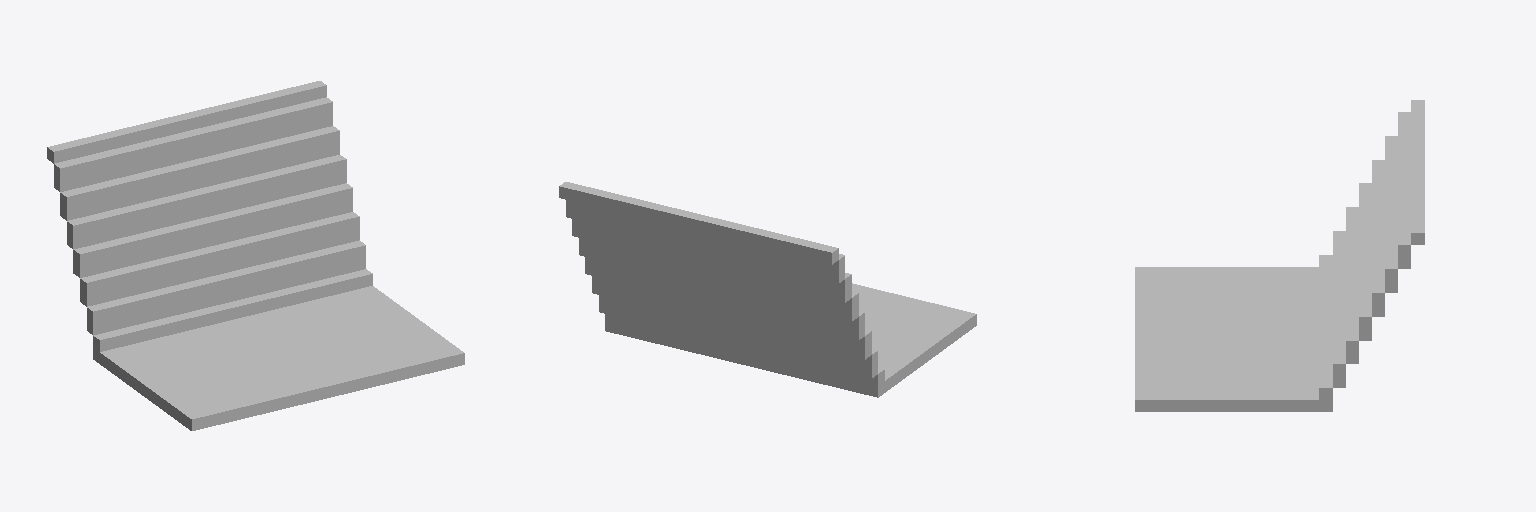
Rendered from pc mesa.obj.
3 views of the same model, side by side, from view 1: azimuth 30°, elevation 25°; view 2: azimuth 150°, elevation 25°; view 3: azimuth 270°, elevation 25° (orthographic).
Visible parts, largest first — view 1: object 1; view 2: object 1; view 3: object 1.
Part boxes in pixels (x1,y1,x2,y2): object 1: (47, 81, 464, 430); object 1: (559, 182, 976, 397); object 1: (1135, 100, 1424, 411).
Size of the model in its own units: 2.4 by 1.5 by 2.2.